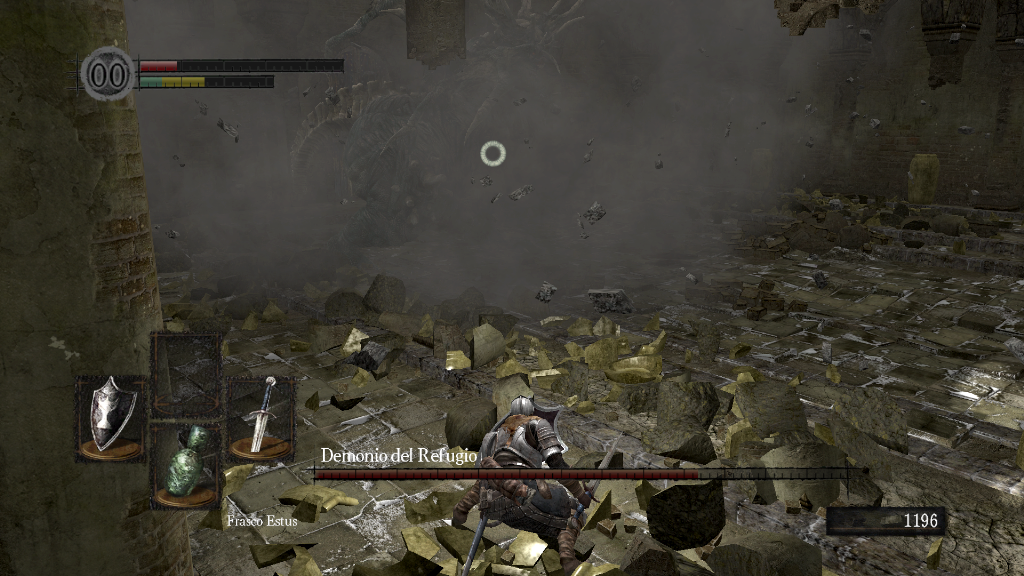asylumDemon: (290, 1, 592, 285)
bossHP: (314, 469, 847, 479)
health: (138, 58, 343, 71)
humanity: (80, 45, 136, 102)
player: (452, 394, 622, 574)
souls: (825, 506, 945, 536)
stamina: (138, 74, 274, 88)
